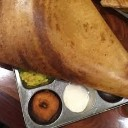dosa: (1, 1, 128, 98)
